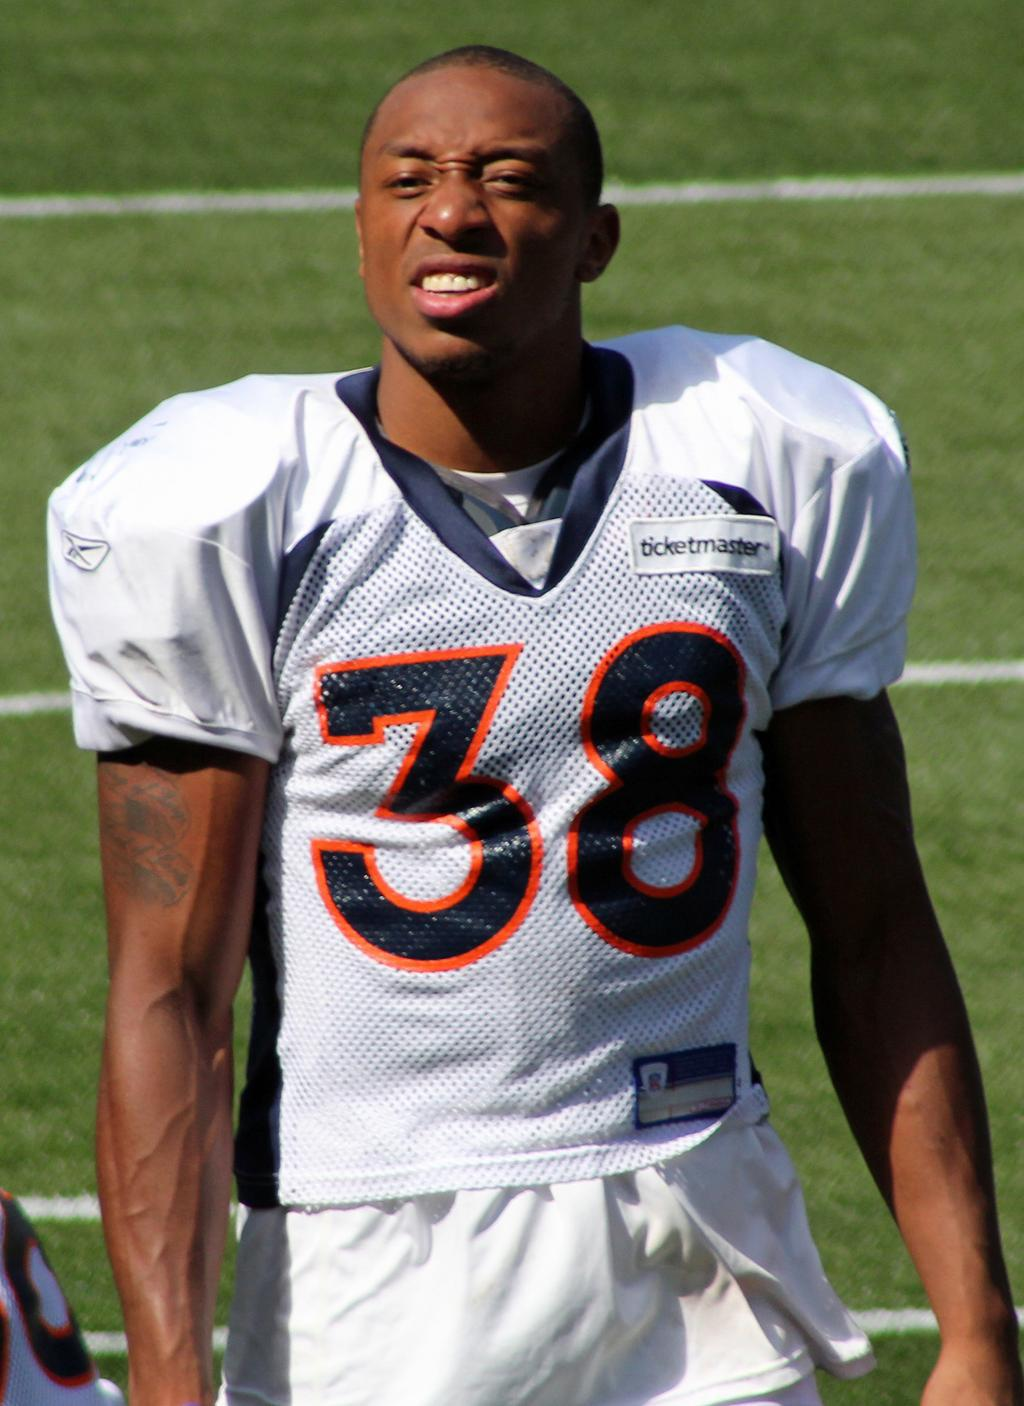face: (369, 92, 591, 372)
